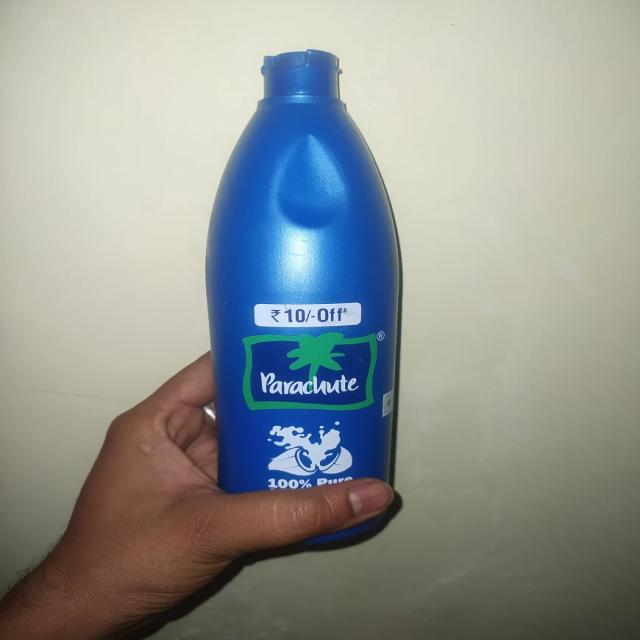parachute_oil: (192, 38, 404, 490)
